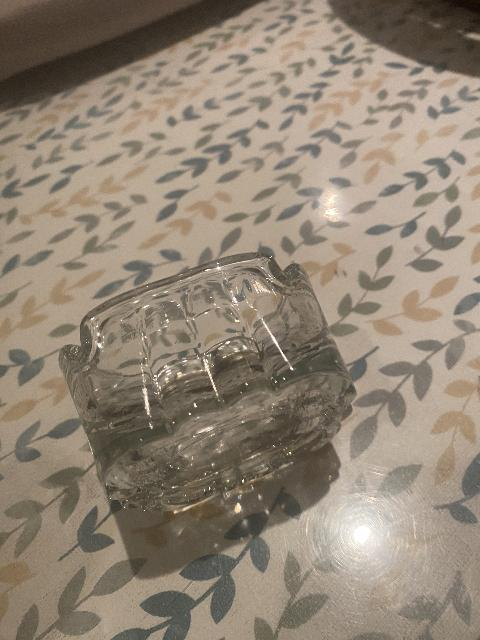Cam: (56, 246, 362, 525)
